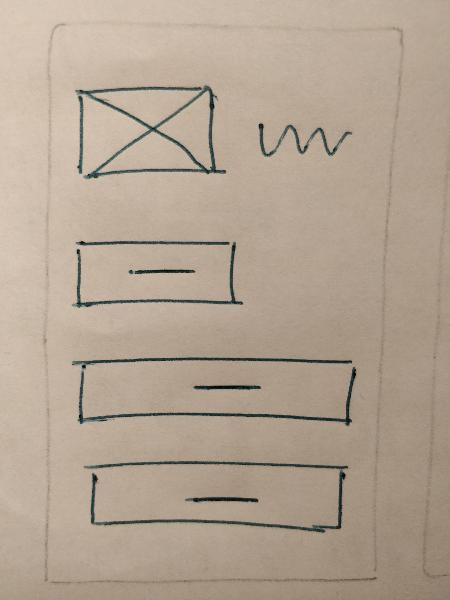button: (63, 351, 365, 430), (77, 455, 354, 538), (70, 235, 248, 317)
image: (69, 77, 234, 192)
text: (249, 118, 359, 164)
